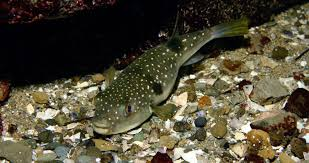kasago: (87, 12, 253, 139)
